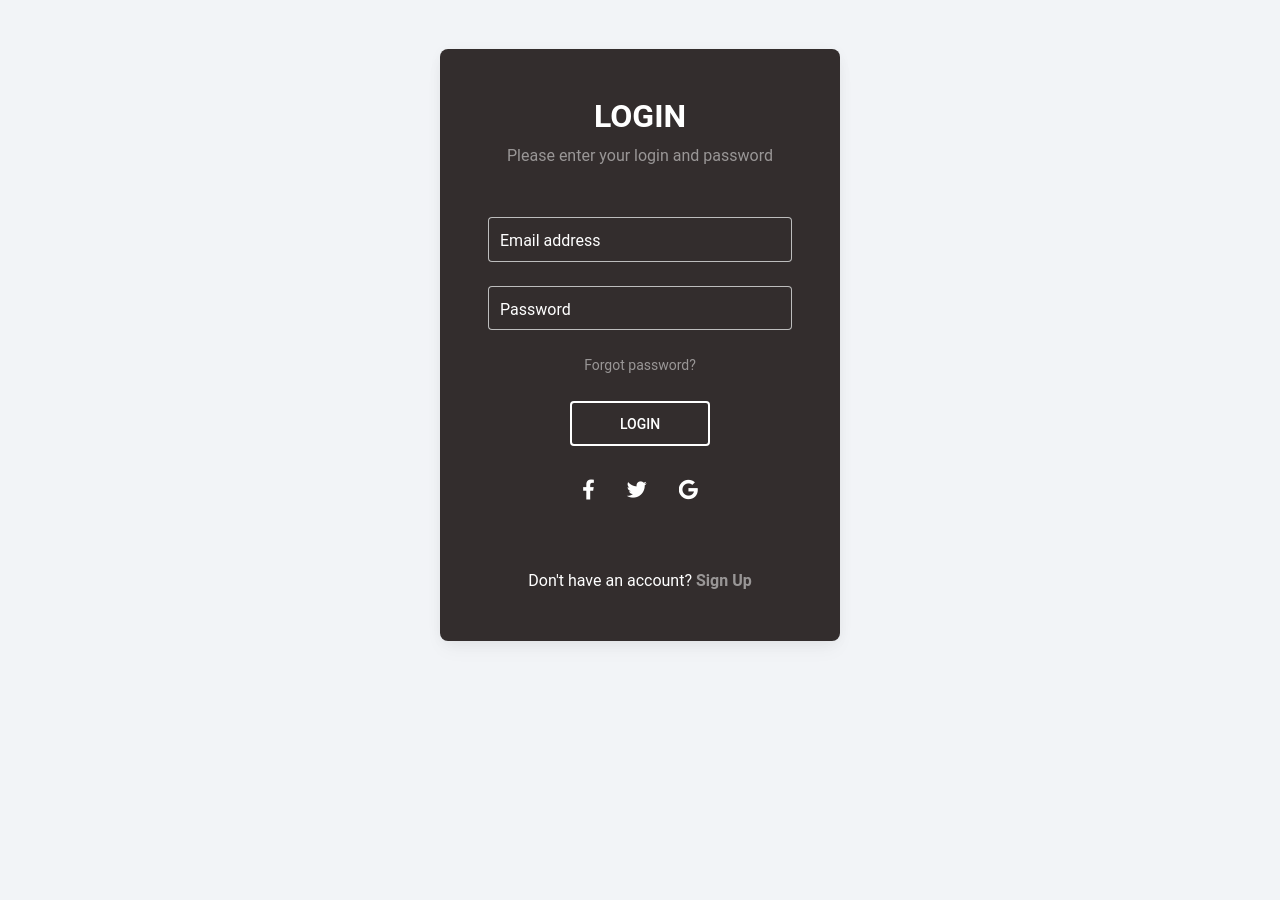
shows the main dashboard after successful login
Type "test-user@test.com" into the field labelled "Email address" at {"x": 640, "y": 239}, box [488, 217, 792, 262]
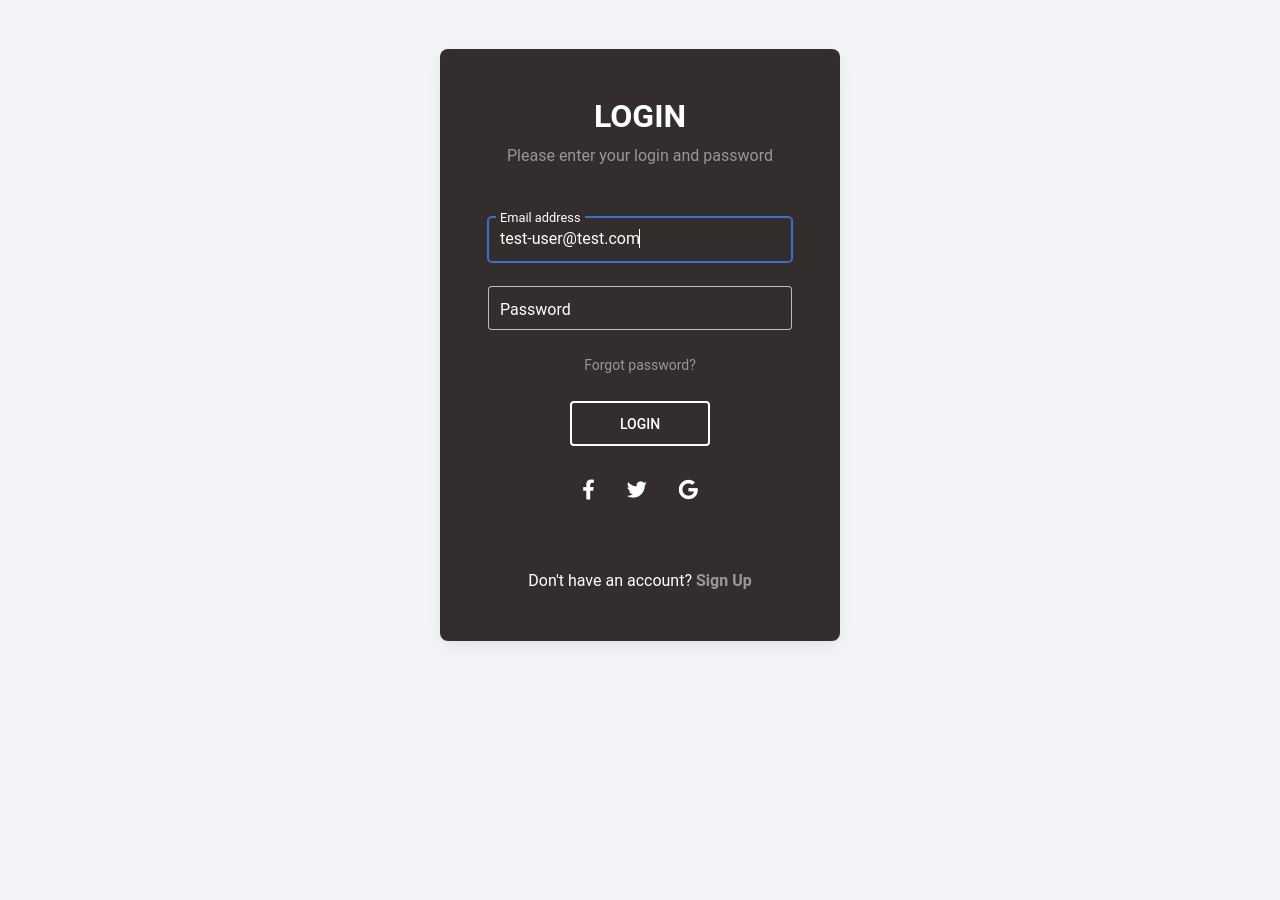
Type "password1234" into the password field labelled "Password" at {"x": 640, "y": 308}, box [488, 286, 792, 330]
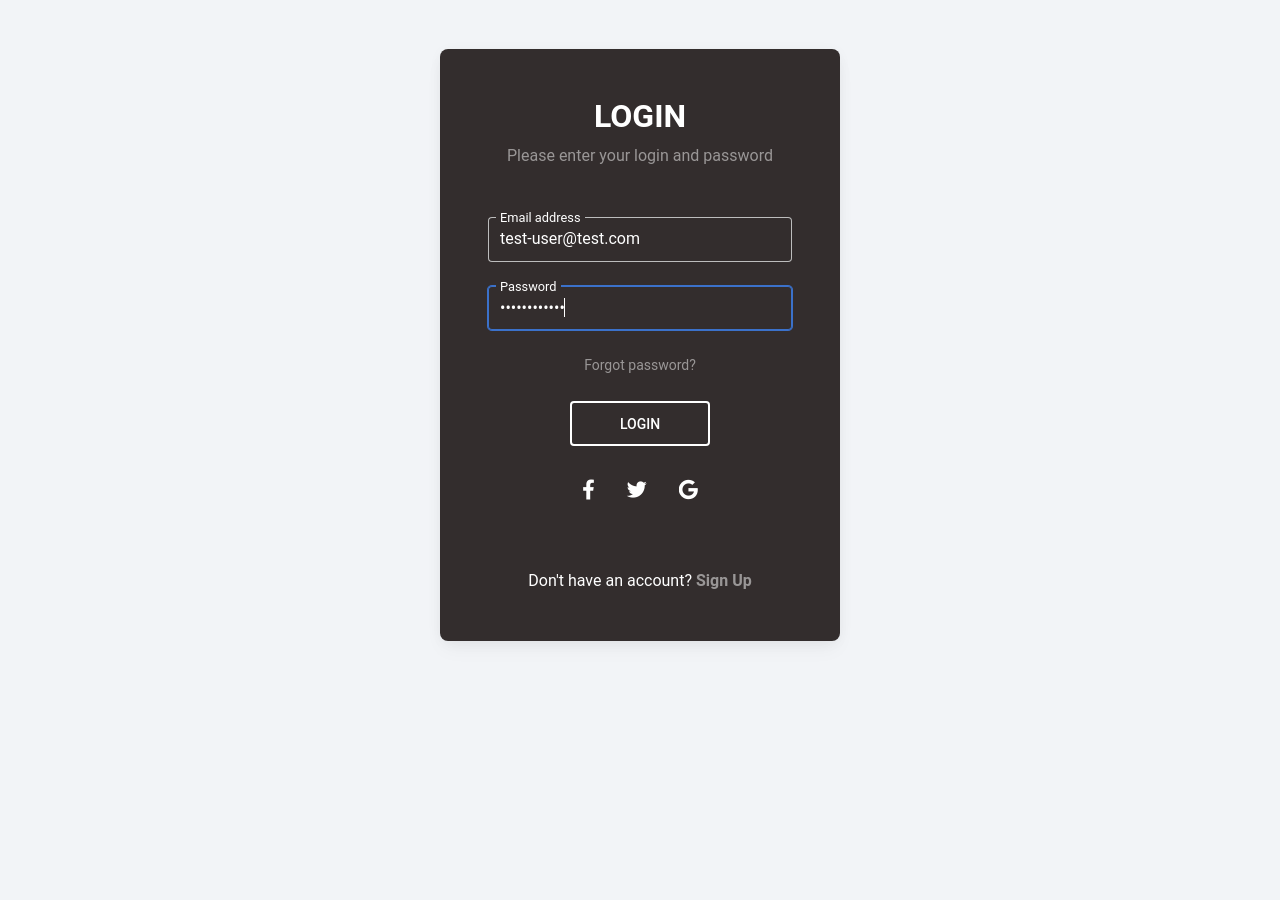
Click the button "Login" at {"x": 640, "y": 423}, box [570, 401, 710, 446]
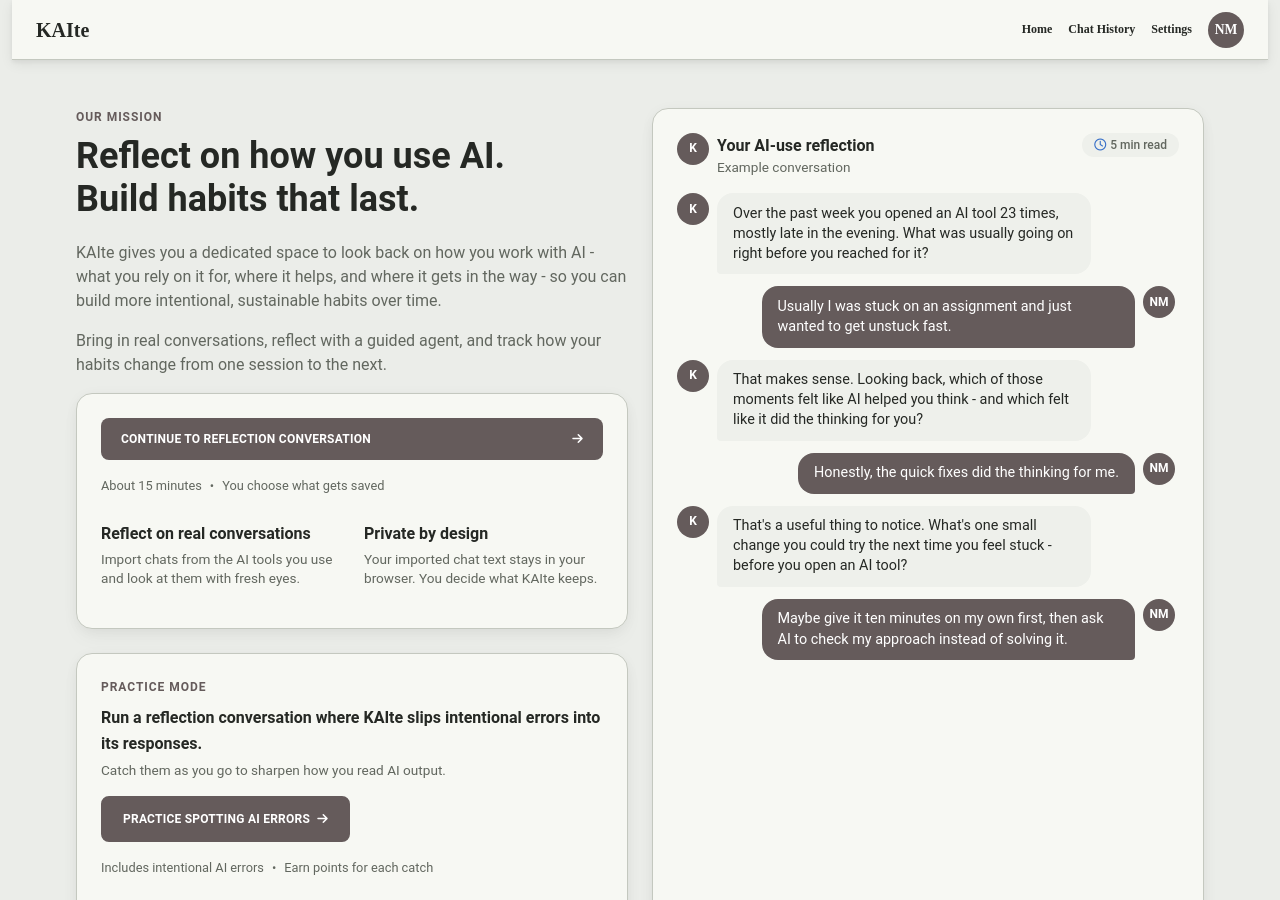
Expected: the button "CONTINUE TO REFLECTION CONVERSATION" is shown, [101, 418, 603, 460]
